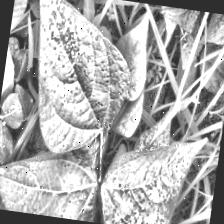ALS: (1, 0, 137, 159), (87, 125, 211, 224)
